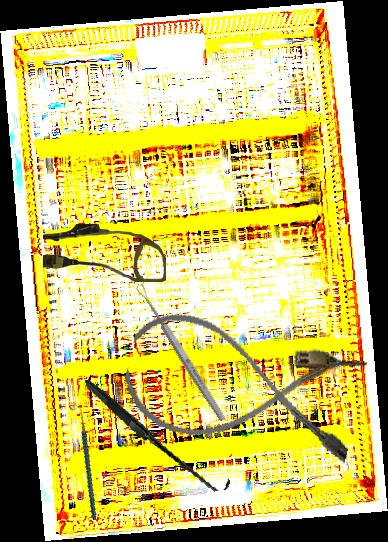Cannula: (115, 304, 370, 471), (43, 224, 166, 282)
Chopper: (50, 401, 119, 521)
Hook Surgical: (84, 358, 232, 511)
Surgical Spoon: (134, 282, 228, 423)
